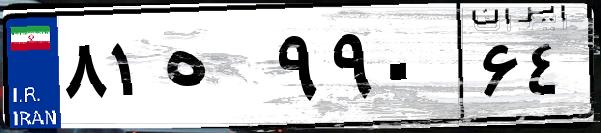0: (385, 28, 445, 110)
1: (110, 28, 158, 98)
4: (525, 38, 570, 115)
6: (475, 38, 525, 113)
8: (57, 26, 110, 100)
9: (270, 28, 330, 110), (330, 28, 385, 110)
ه: (158, 20, 270, 120)
